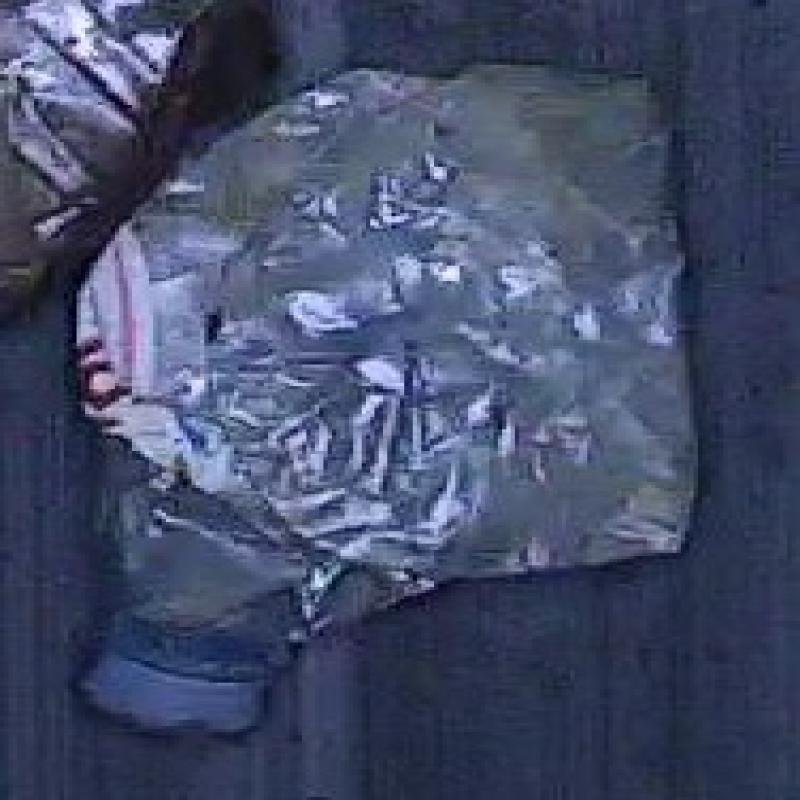botella: (63, 62, 700, 748)
